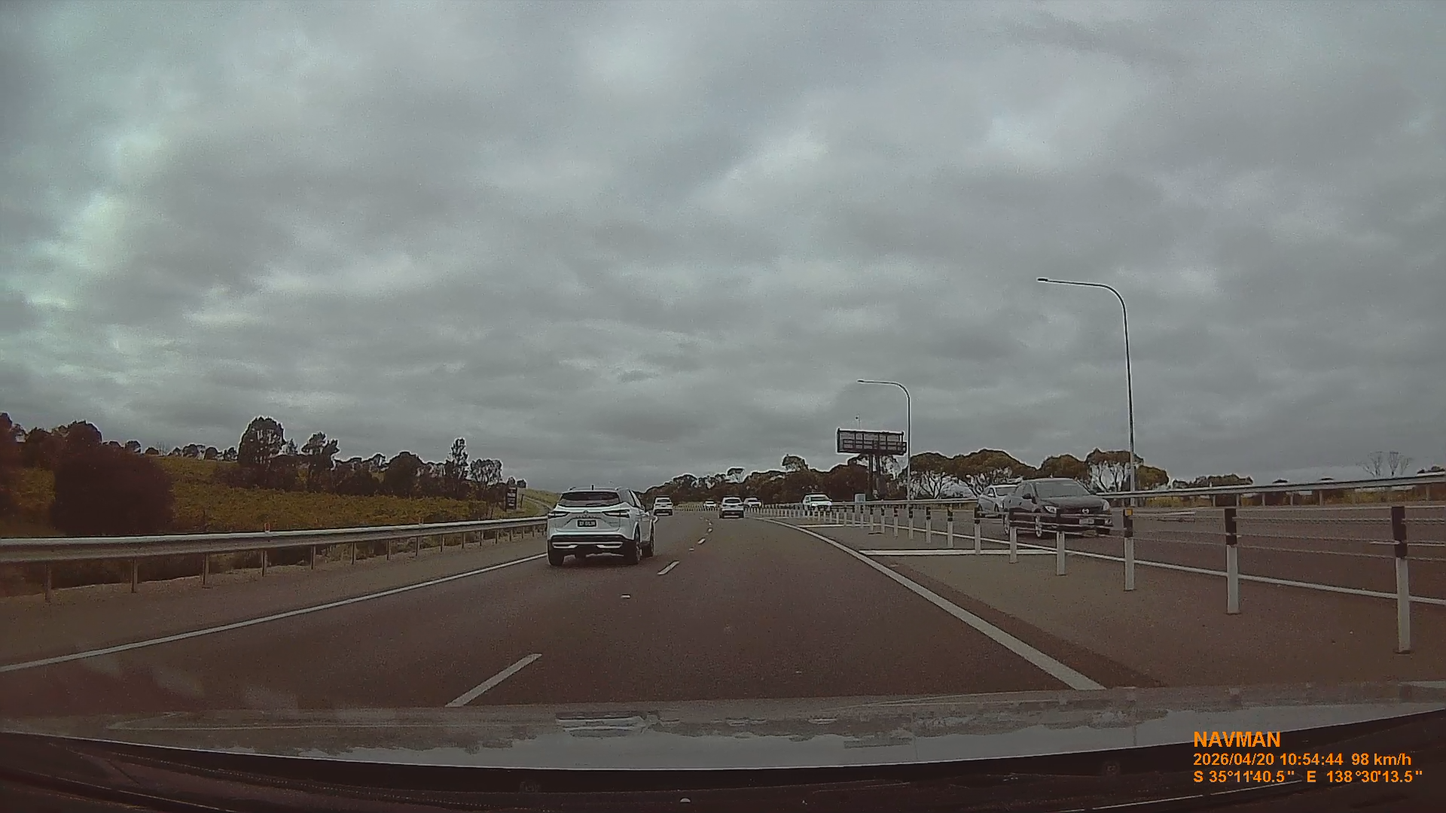road barriers: (1136, 473, 1445, 509)
